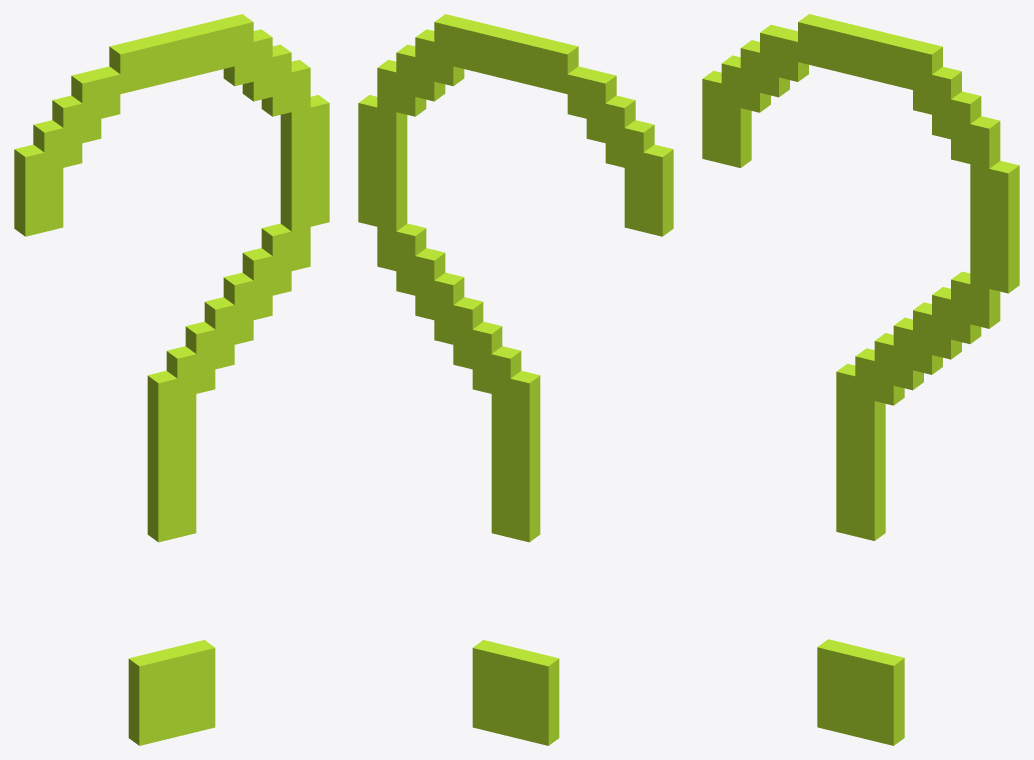
Rendered from hisigata_kata-0.obj.
3 views of the same model, side by side, from view 1: azimuth 30°, elevation 25°; view 2: azimuth 150°, elevation 25°; view 3: azimuth 330°, elevation 25° (orthographic).
Bounding box in the file's own units: 1.6 × 3.5 × 0.1.
1 material, 1 textured.
